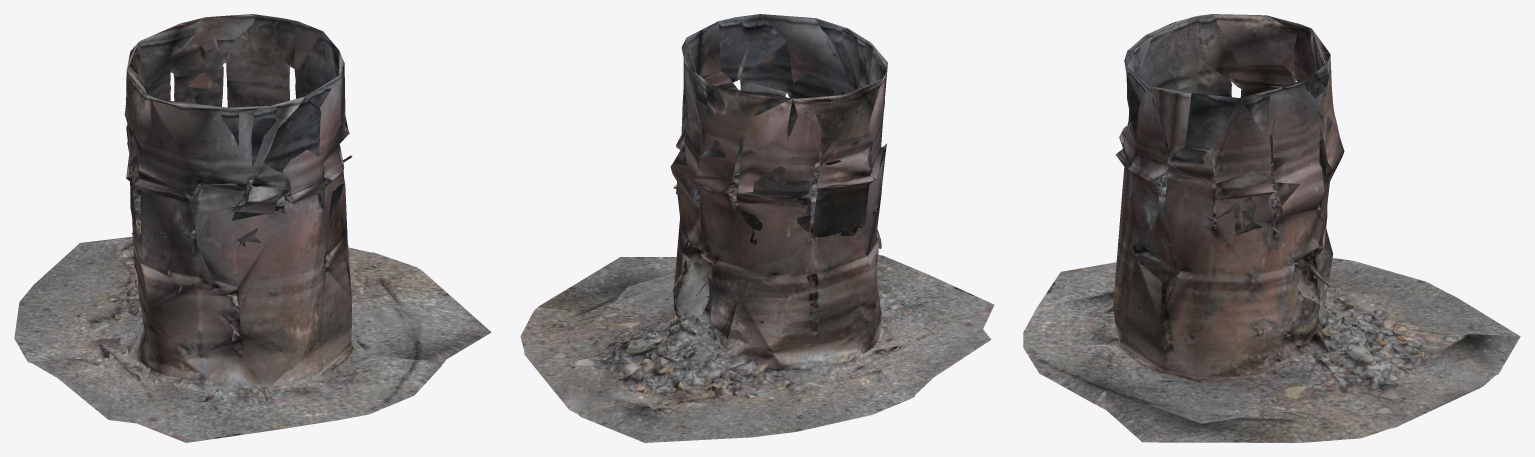
The model's file is barrel.glb.
3 renders of one model, left to right at view 1: azimuth 30°, elevation 25°; view 2: azimuth 150°, elevation 25°; view 3: azimuth 270°, elevation 25°, orthographic. The views are drawn at different scales.
Parts seen in each view (by area): view 1: Object_2; view 2: Object_2; view 3: Object_2.
Part boxes in pixels (x1,y1,x2,y2): Object_2: (14,14,491,442); Object_2: (520,14,994,442); Object_2: (1023,14,1520,442).
Size of the model in its own units: 11.21 by 8.13 by 12.56.
Materials: 1 (1 with a texture image).
